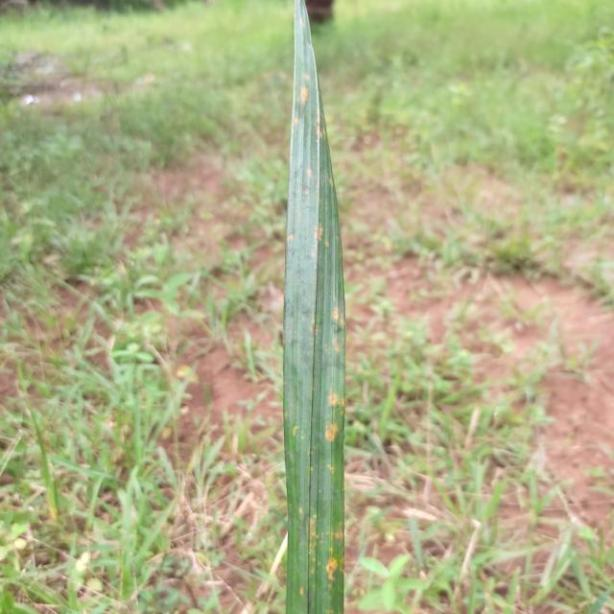Kalium: (284, 0, 346, 614)
